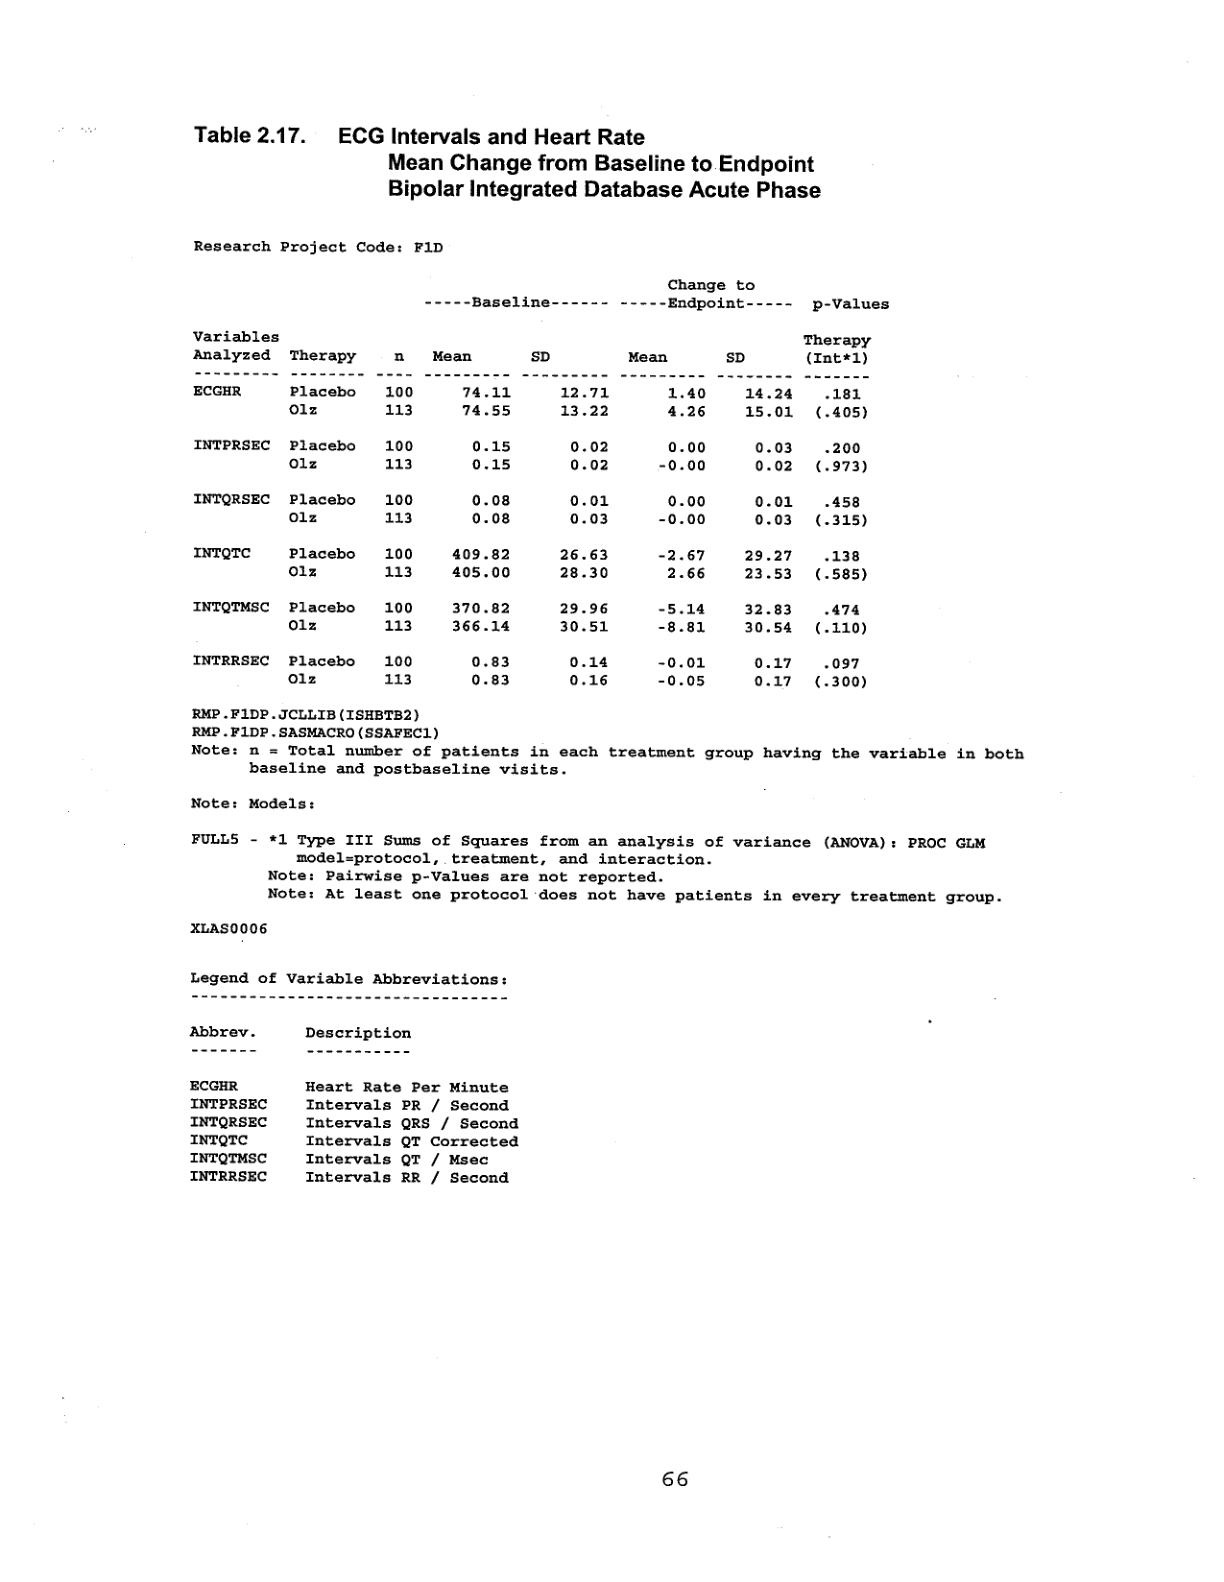nolines: (190, 276, 893, 692), (188, 1017, 520, 1185)
